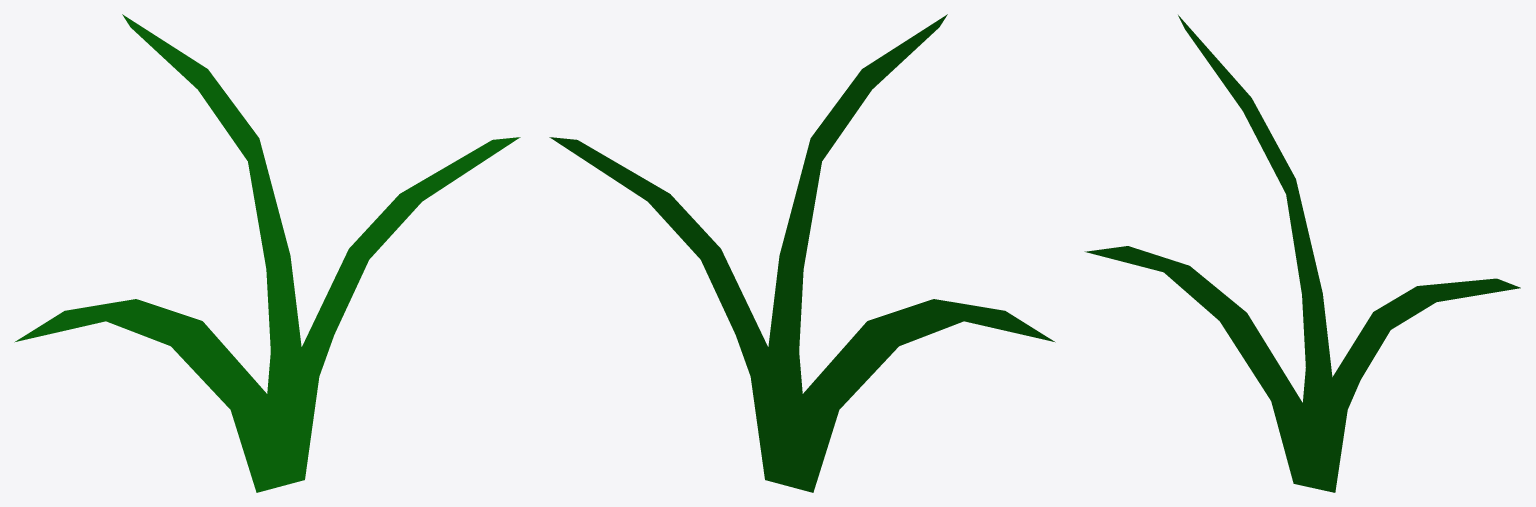
Rendered from Grass_3.fbx.
The picture shows the model from 3 angles, left to right: view 1: azimuth 30°, elevation 25°; view 2: azimuth 150°, elevation 25°; view 3: azimuth 330°, elevation 25°; orthographic projection. The views are drawn at different scales.
Visible parts, largest first — view 1: Grass_3; view 2: Grass_3; view 3: Grass_3.
Part boxes in pixels (x1,y1,x2,y2): Grass_3: (14, 14, 520, 492); Grass_3: (549, 14, 1055, 492); Grass_3: (1084, 15, 1520, 492).
Size of the model in its own units: 0.8745 by 0.844 by 9.36e-08.
